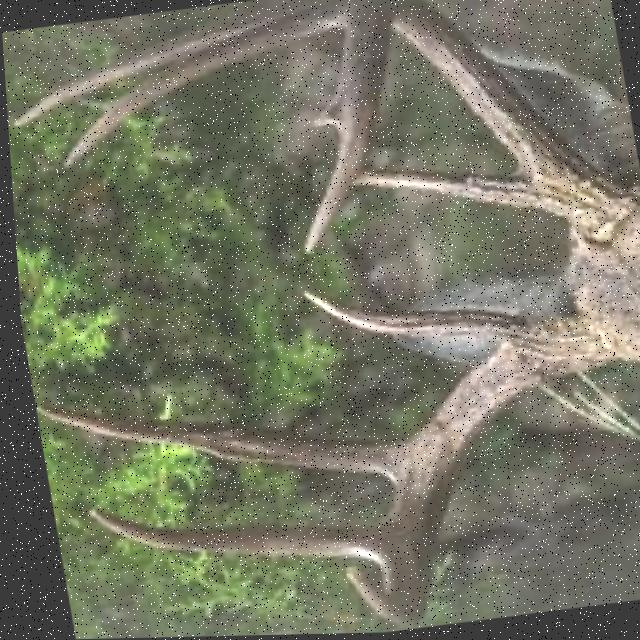E1: (307, 98, 336, 130)
L-F: (297, 0, 637, 257)
L-G1: (353, 171, 536, 210)
L-G3: (58, 0, 353, 169)
R-F: (333, 317, 615, 630)
R-G1: (296, 289, 539, 343)
R-G2: (28, 404, 404, 482)
R-G3: (81, 506, 380, 565)
